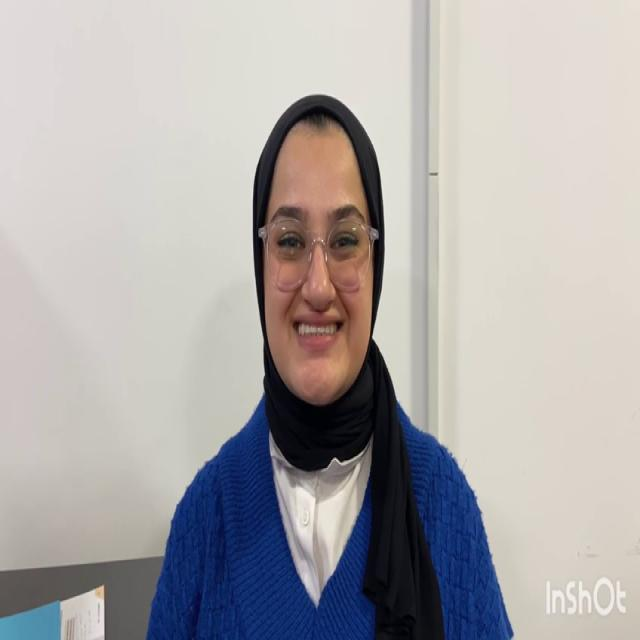happy: (262, 114, 378, 404)
